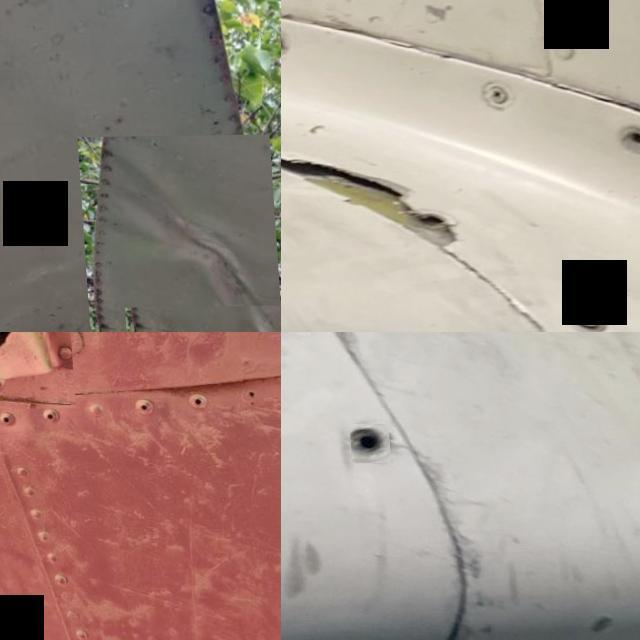Crack: (281, 151, 462, 259), (0, 332, 71, 410)
Dent: (73, 136, 276, 332), (119, 307, 279, 332)
Missing_Fastener: (347, 425, 388, 464), (612, 125, 640, 155), (410, 211, 444, 228), (281, 29, 290, 57)
